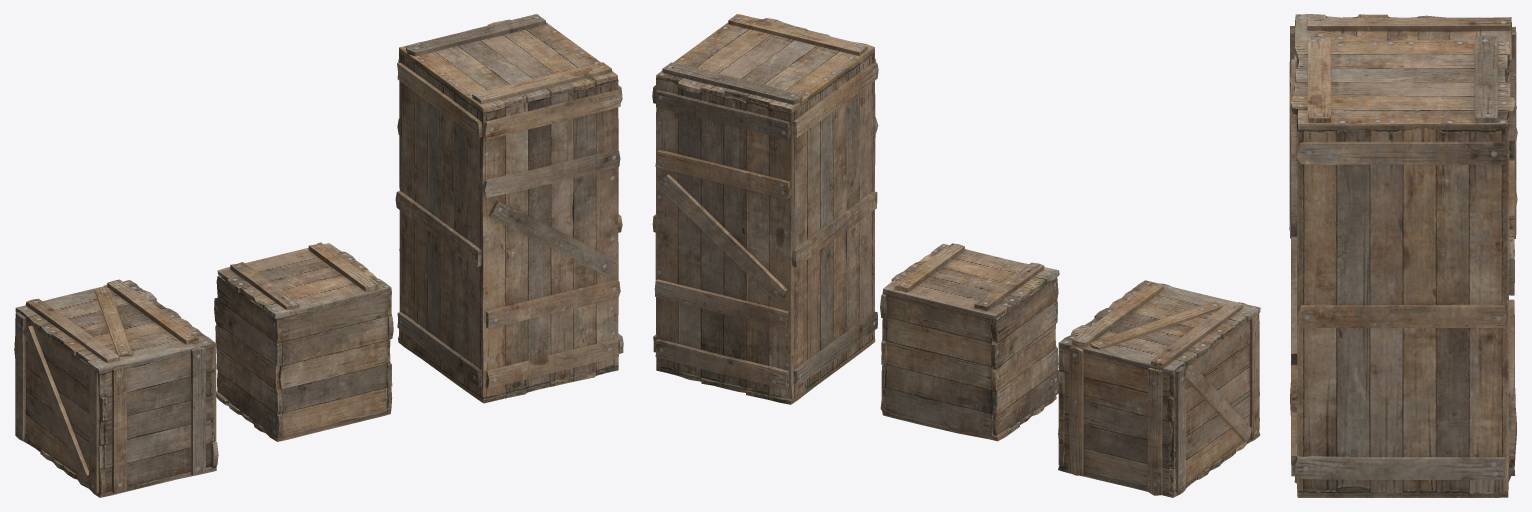
Rendered from wooden_boxes.glb.
The picture shows the model from 3 angles, left to right: view 1: azimuth 30°, elevation 25°; view 2: azimuth 150°, elevation 25°; view 3: azimuth 270°, elevation 25°; orthographic projection. The views are drawn at different scales.
Visible parts, largest first — view 1: box, box2, box1; view 2: box, box2, box1; view 3: box, box2.
Part boxes in pixels (box(x1,y1,x2,y2)): box: box(395, 14, 623, 403); box2: box(14, 279, 218, 497); box1: box(214, 242, 393, 441); box: box(652, 14, 878, 404); box2: box(1058, 280, 1260, 497); box1: box(880, 243, 1059, 441); box: box(1290, 35, 1516, 497); box2: box(1289, 14, 1517, 238).
Bounding box in the file's own units: 1.14 × 0.6217 × 0.338.
1 material, 1 textured.
